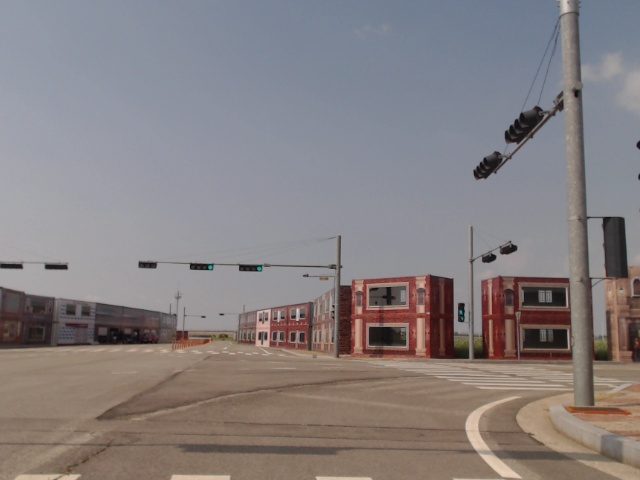straight_green_4: (191, 263, 215, 270), (241, 265, 263, 272)
